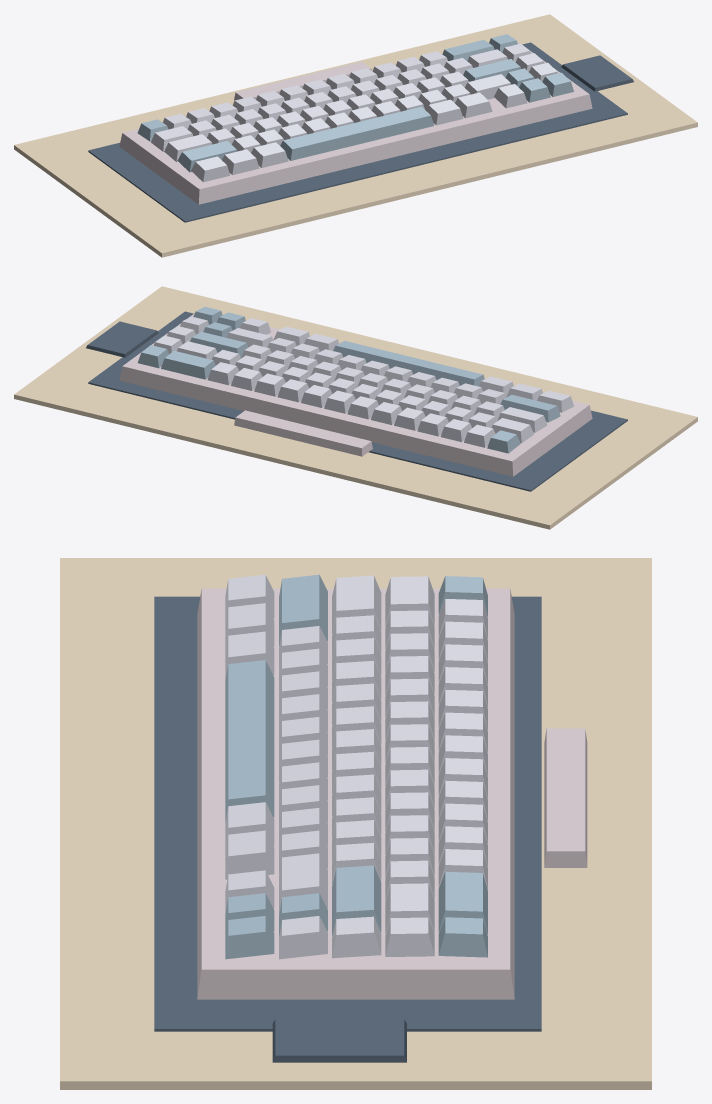
File: color_test.glb
3 views of the same model, one above another, from view 1: azimuth 30°, elevation 25°; view 2: azimuth 150°, elevation 25°; view 3: azimuth 270°, elevation 25° (orthographic). The views are drawn at different scales.
Visible parts, largest first — view 1: desk, keyboard case, deskmat, key 62, mouse pad side, monitor stand, key 45, key 43, key 59, key 60, key 56, key 61 (+10 smaller); view 2: desk, keyboard case, deskmat, monitor stand, key 62, mouse pad side, key 14, key 45, key 43, key 31, key 16, key 56 (+20 smaller); view 3: desk, keyboard case, deskmat, key 62, monitor stand, mouse pad side, key 43, key 45, key 14, key 31, key 56, key 64 (+60 smaller).
Boxes of the visible parts, x1,y1,x2,y2 form: desk: (14,14,697,257); keyboard case: (119,41,592,204); deskmat: (88,42,627,222); key 62: (280,106,434,160); mouse pad side: (561,55,633,91); monitor stand: (234,61,371,100); key 45: (177,141,237,172); key 43: (463,59,520,81); key 59: (191,156,230,182); key 60: (222,149,259,174); key 56: (465,74,511,99); key 61: (251,142,288,167); desk: (14,286,697,529); keyboard case: (119,313,592,476); deskmat: (88,311,627,491); monitor stand: (234,410,372,456); key 62: (333,341,484,386); mouse pad side: (86,321,158,357); key 14: (161,350,215,379); key 45: (500,395,560,422); key 43: (190,331,248,357); key 31: (497,407,547,432); key 16: (491,418,533,443); key 56: (226,328,273,347); desk: (60,558,651,1089); keyboard case: (197,588,514,999); deskmat: (154,596,541,1031); key 62: (225,660,274,822); monitor stand: (544,728,587,867); mouse pad side: (272,1019,406,1062); key 43: (332,865,381,935); key 45: (279,574,327,646); key 14: (438,871,487,934); key 31: (332,575,381,633); key 56: (279,853,327,913); key 64: (225,830,274,879).
Bounding box in the file's own units: 23 × 1.54 × 11.
